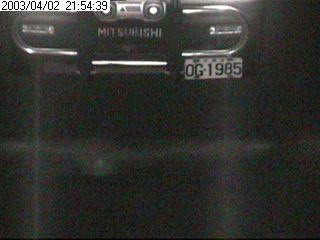plate: (184, 56, 243, 79)
